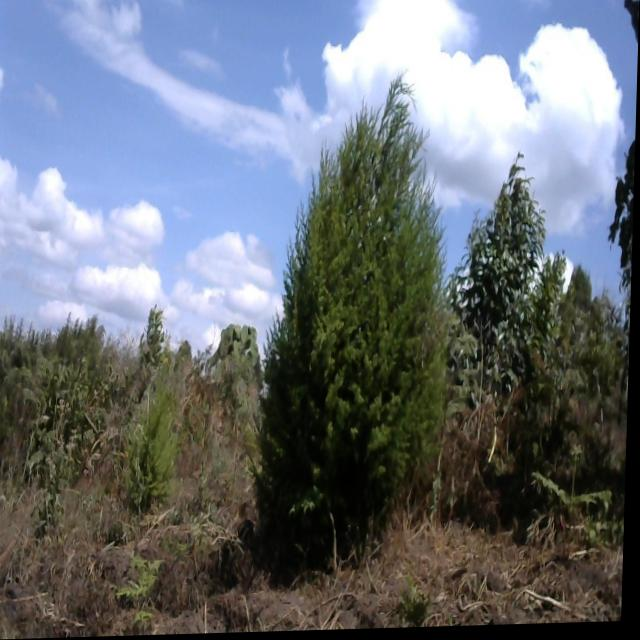cedrus: (267, 73, 459, 547), (133, 372, 183, 515)
other: (457, 170, 542, 376), (211, 318, 262, 398), (149, 90, 151, 127)
